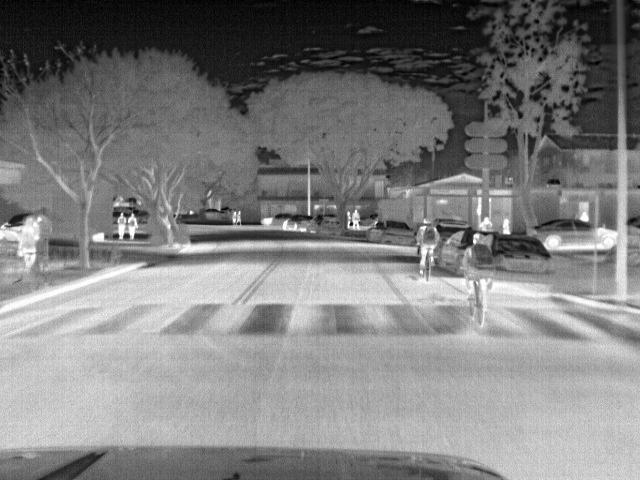car: (526, 218, 619, 254), (497, 232, 549, 289), (434, 227, 476, 276), (369, 220, 412, 246), (0, 214, 27, 241), (312, 213, 346, 234), (258, 210, 289, 230), (285, 212, 314, 233), (205, 207, 228, 223)
person: (459, 228, 497, 308), (13, 214, 40, 271), (416, 221, 434, 276), (116, 211, 128, 241), (125, 210, 137, 240), (350, 207, 362, 232), (235, 209, 243, 224), (230, 209, 236, 226)
